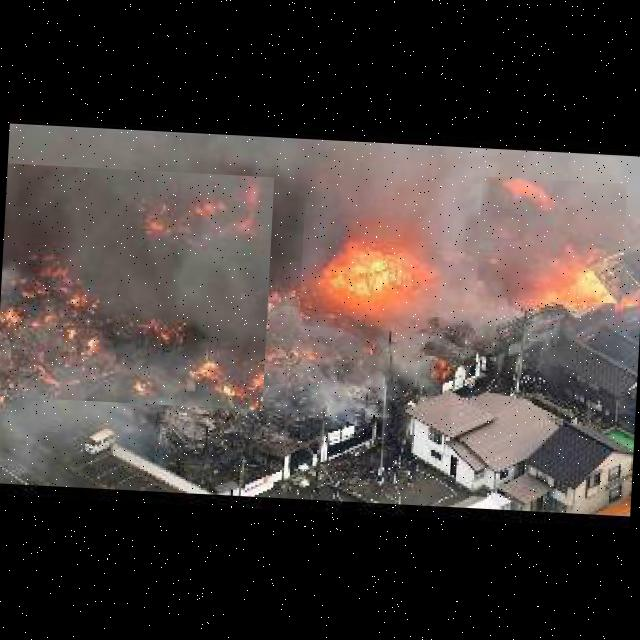fire: (0, 163, 274, 410), (477, 176, 628, 304), (298, 217, 446, 333)
